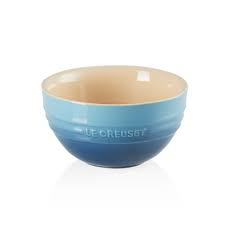bowl: (38, 62, 191, 172)
